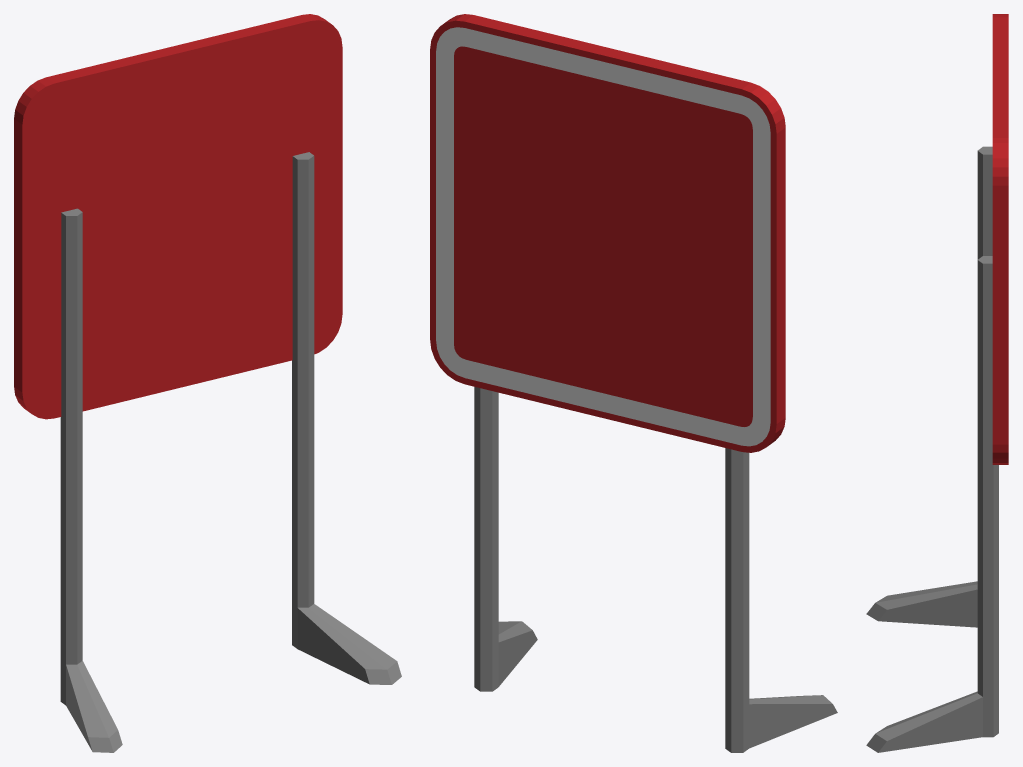
The model's file is Barreira_Alta.fbx.
3 renders of one model, left to right at view 1: azimuth 30°, elevation 25°; view 2: azimuth 150°, elevation 25°; view 3: azimuth 270°, elevation 25°, orthographic. The views are drawn at different scales.
Parts seen in each view (by area): view 1: Cube.002, Cylinder.004, Cylinder.003; view 2: Cube.002, Cylinder.003, Cylinder.004; view 3: Cylinder.004, Cube.002, Cylinder.003.
Part boxes in pixels (box(x1,y1,x2,y2)): Cube.002: box(14, 14, 342, 419); Cylinder.004: box(292, 152, 401, 684); Cylinder.003: box(60, 208, 122, 752); Cube.002: box(430, 14, 785, 452); Cylinder.003: box(725, 448, 837, 752); Cylinder.004: box(474, 387, 537, 691); Cylinder.004: box(866, 256, 998, 752); Cube.002: box(992, 14, 1008, 464); Cylinder.003: box(866, 146, 992, 627).
Bounding box in the file's own units: 200 × 79.77 × 370.
